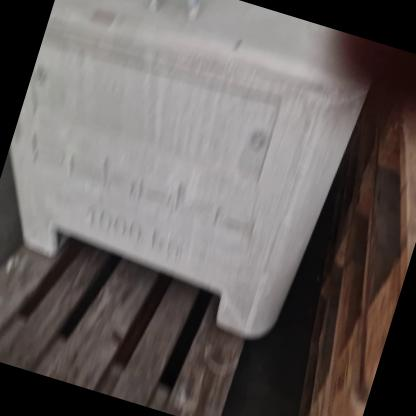BoxFace: (0, 245, 243, 416)
